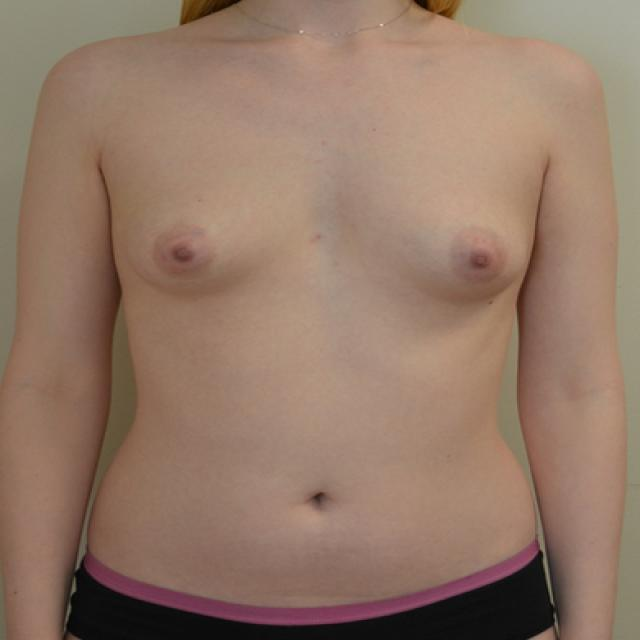Seno ileso: (336, 173, 545, 321), (102, 174, 316, 314)
